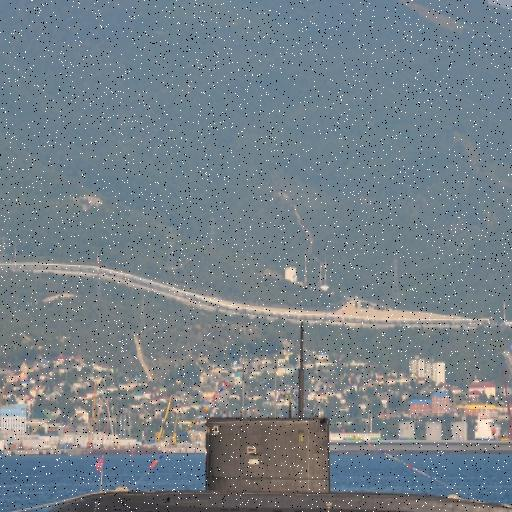submarine: (15, 419, 512, 512)
